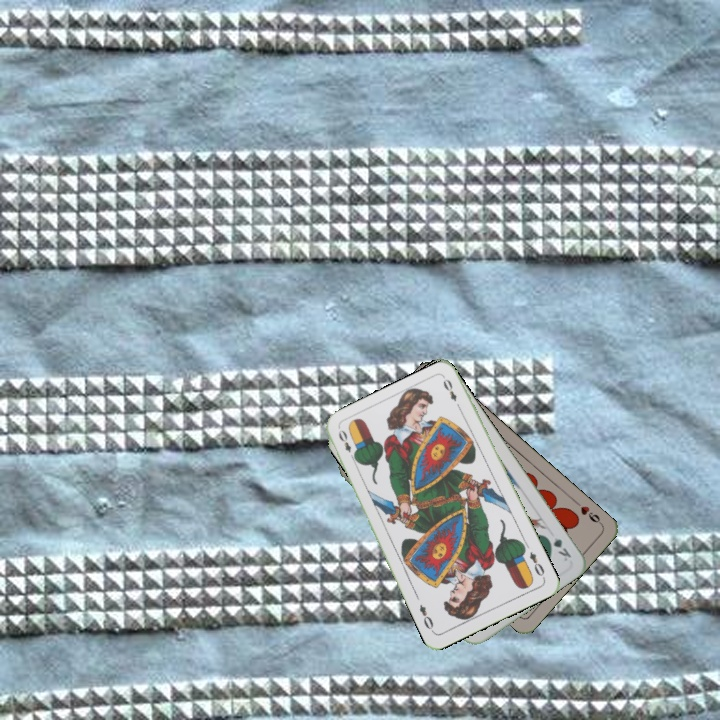EO: (334, 426, 359, 464), (525, 548, 548, 581)
GK: (541, 531, 574, 564)
H9: (571, 497, 605, 528)
